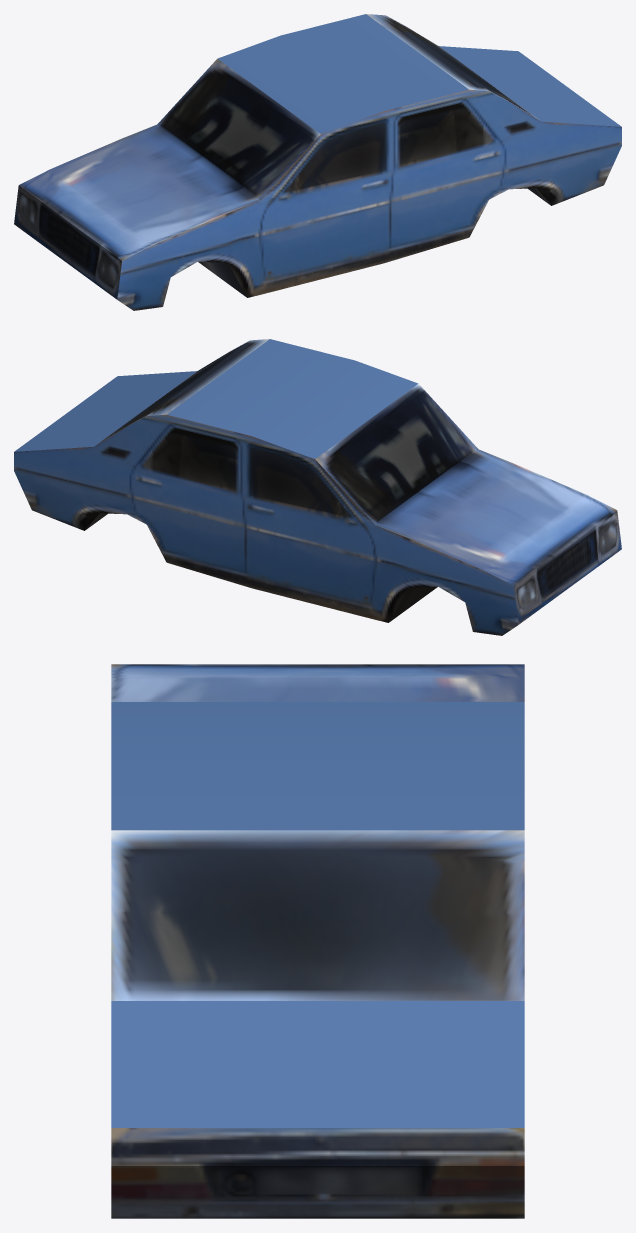
The model's file is jacked_car.FBX.
The picture shows the model from 3 angles, top to bottom: view 1: azimuth 30°, elevation 25°; view 2: azimuth 150°, elevation 25°; view 3: azimuth 270°, elevation 25°; orthographic projection. The views are drawn at different scales.
Parts seen in each view (by area): view 1: jacked_car; view 2: jacked_car; view 3: jacked_car.
Part boxes in pixels (x1,y1,x2,y2): jacked_car: [14, 14, 621, 310]; jacked_car: [14, 339, 621, 635]; jacked_car: [111, 664, 524, 1218].
Bounding box in the file's own units: 282 × 82.37 × 100.
